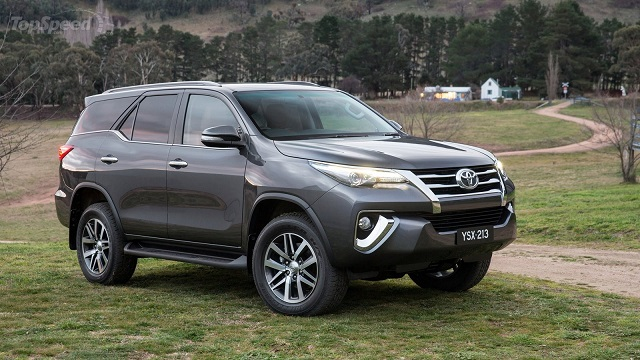car: (52, 79, 517, 314)
